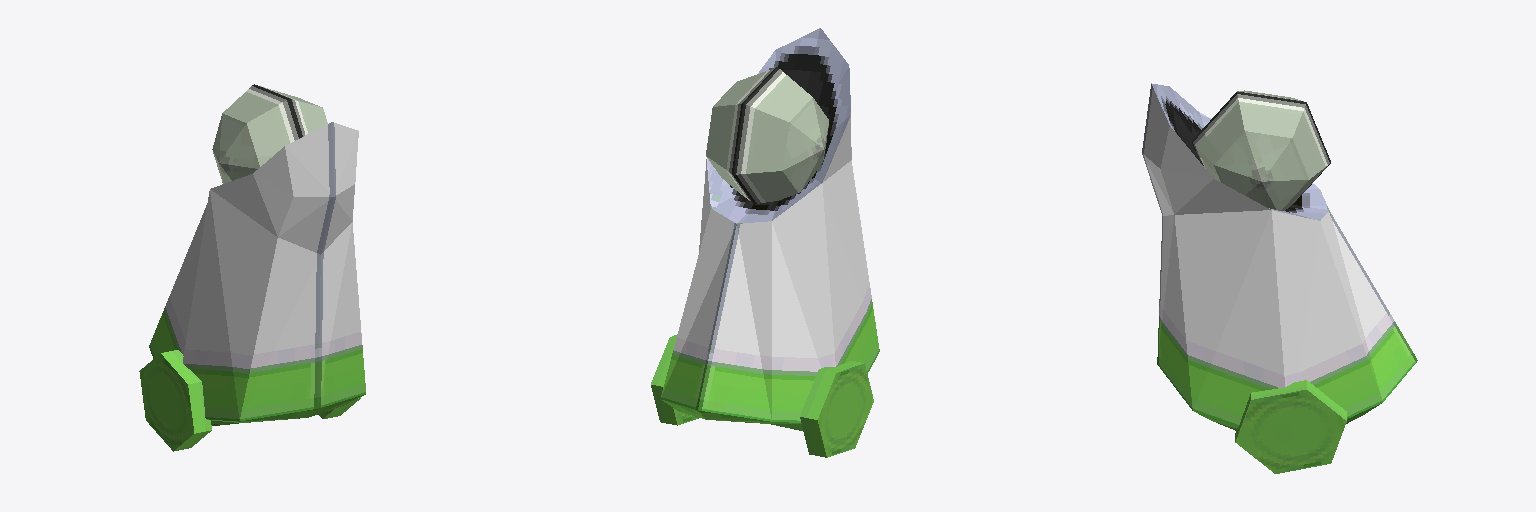
The picture shows the model from 3 angles: view 1: azimuth 30°, elevation 25°; view 2: azimuth 150°, elevation 25°; view 3: azimuth 270°, elevation 25°; orthographic projection.
Visible parts, largest first — view 1: buzzlightyRightCalf_buzzlighty.026; view 2: buzzlightyRightCalf_buzzlighty.026; view 3: buzzlightyRightCalf_buzzlighty.026.
Part boxes in pixels (x1,y1,x2,y2): buzzlightyRightCalf_buzzlighty.026: (139,84,365,451); buzzlightyRightCalf_buzzlighty.026: (651,28,879,457); buzzlightyRightCalf_buzzlighty.026: (1142,83,1417,473).
Bounding box in the file's own units: 0.1133 × 0.2274 × 0.1597.
1 materials, 1 textured.